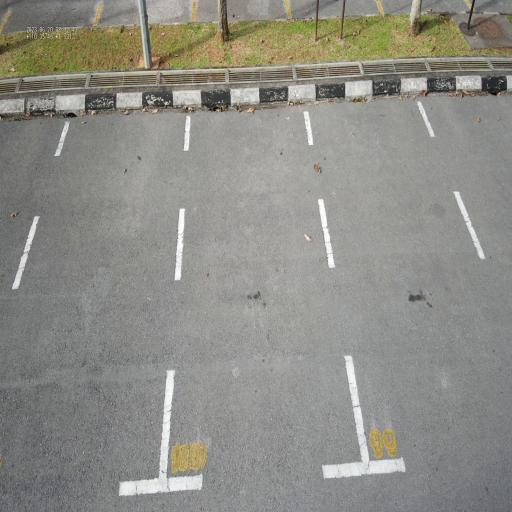Empty: (154, 100, 371, 501), (302, 95, 512, 484)
